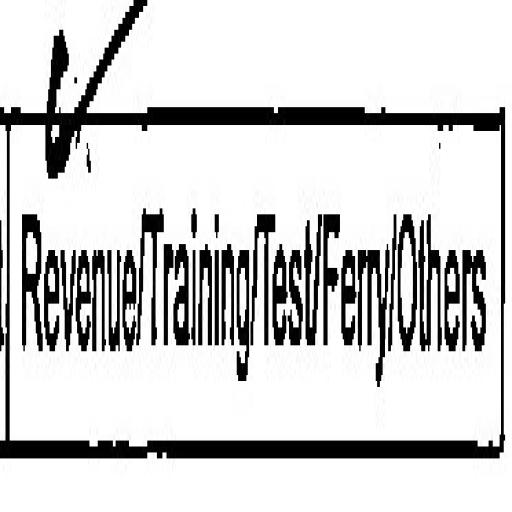check: (12, 0, 144, 512)
